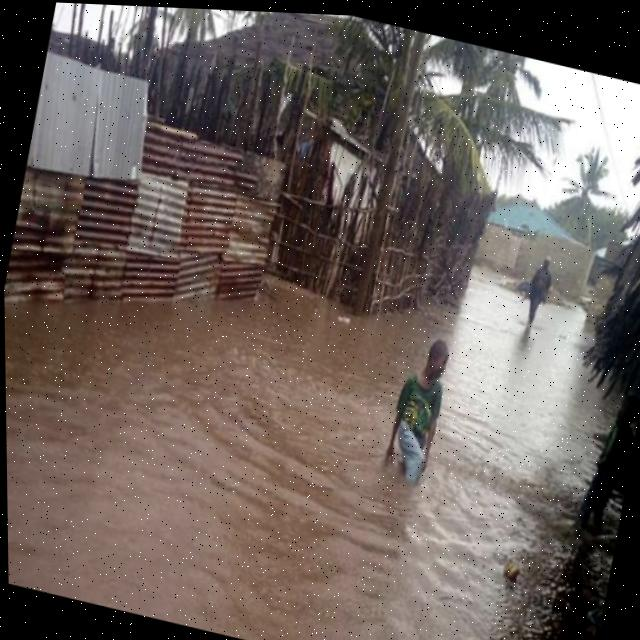civilian: (371, 319, 465, 501), (509, 246, 569, 342)
